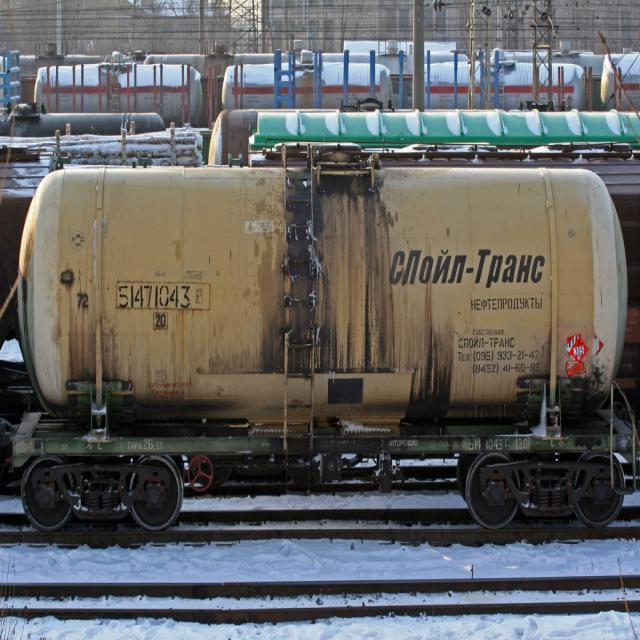wagon: (115, 282, 195, 312)
